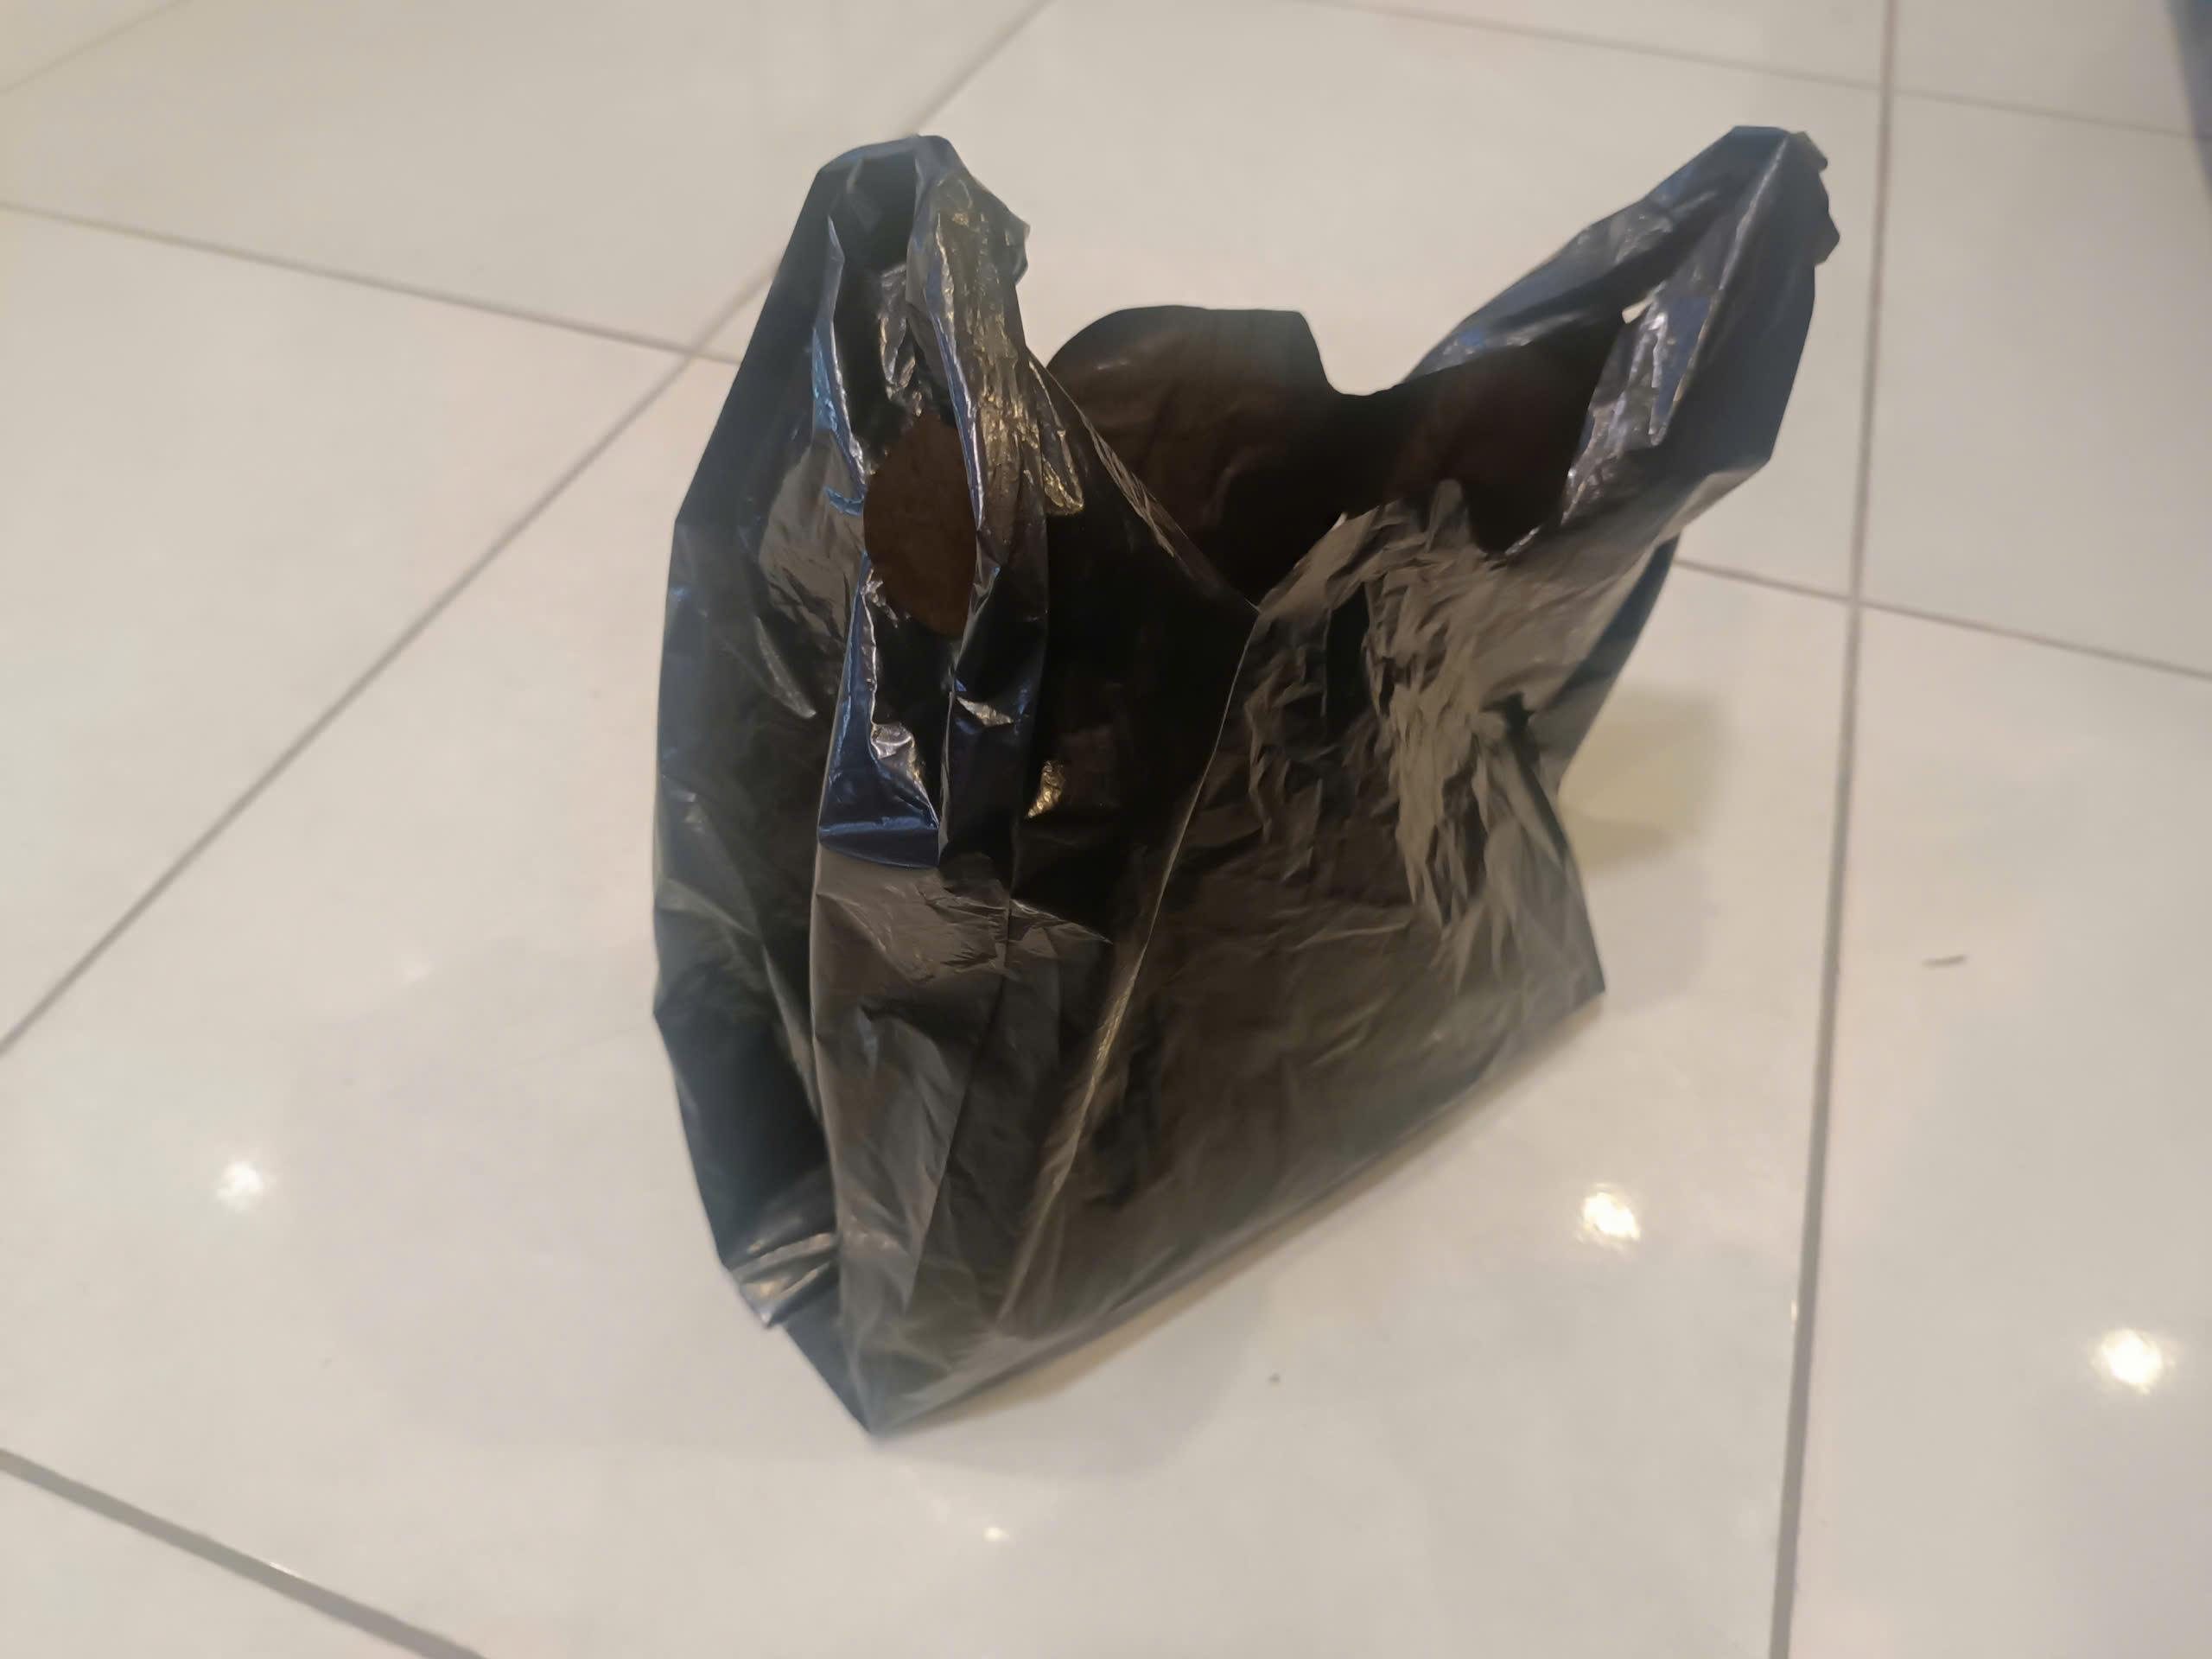Vo co: (648, 127, 1839, 1427)
